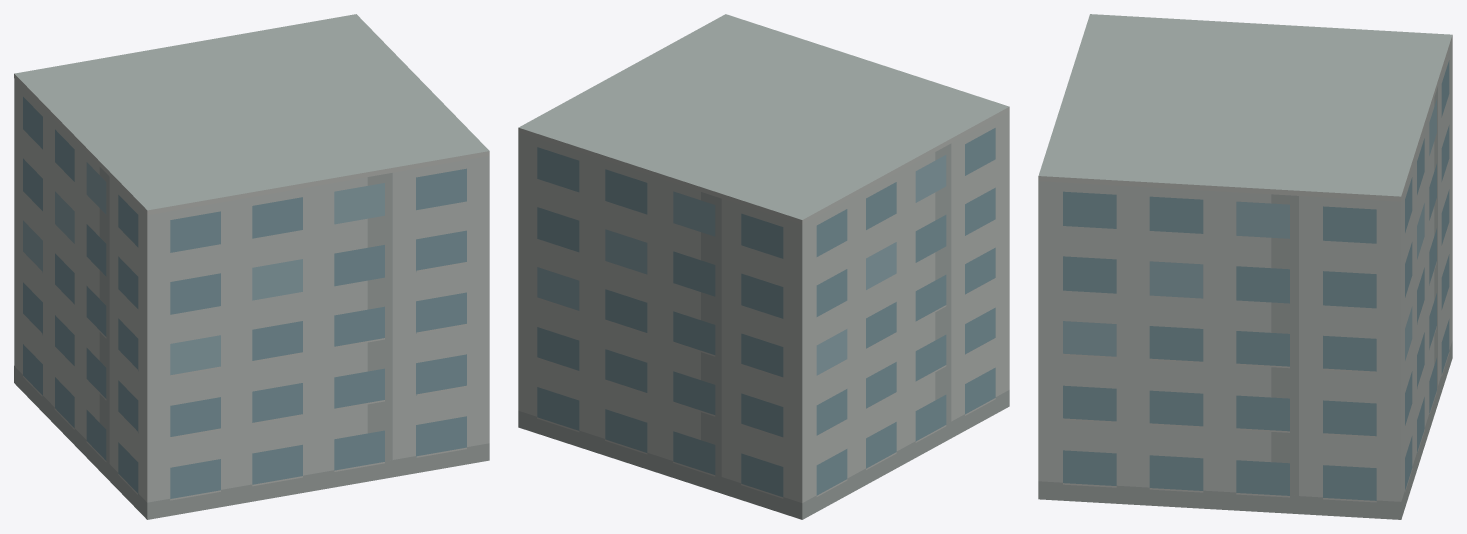
The model's file is residential-860df785-e1aa-4324-b99d-a12566f1def8.glb.
3 views of the same model, side by side, from view 1: azimuth 30°, elevation 25°; view 2: azimuth 150°, elevation 25°; view 3: azimuth 270°, elevation 25° (orthographic). The views are drawn at different scales.
Visible parts, largest first — view 1: residential-860df785-e1aa-4324-b99d-a12566f1def8.tmp; view 2: residential-860df785-e1aa-4324-b99d-a12566f1def8.tmp; view 3: residential-860df785-e1aa-4324-b99d-a12566f1def8.tmp.
Part boxes in pixels (x1,y1,x2,y2): residential-860df785-e1aa-4324-b99d-a12566f1def8.tmp: (14,14,489,519); residential-860df785-e1aa-4324-b99d-a12566f1def8.tmp: (518,14,1009,519); residential-860df785-e1aa-4324-b99d-a12566f1def8.tmp: (1038,14,1452,519).
Bounding box in the file's own units: 18.47 × 15.25 × 17.71.
